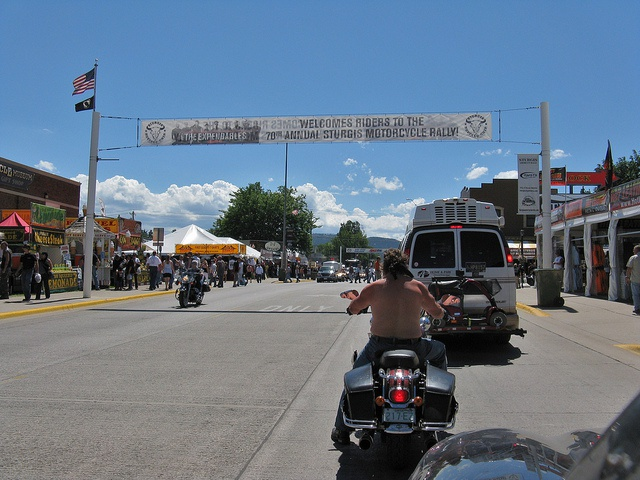non-vehicle: (339, 289, 459, 451), (174, 267, 210, 307)
